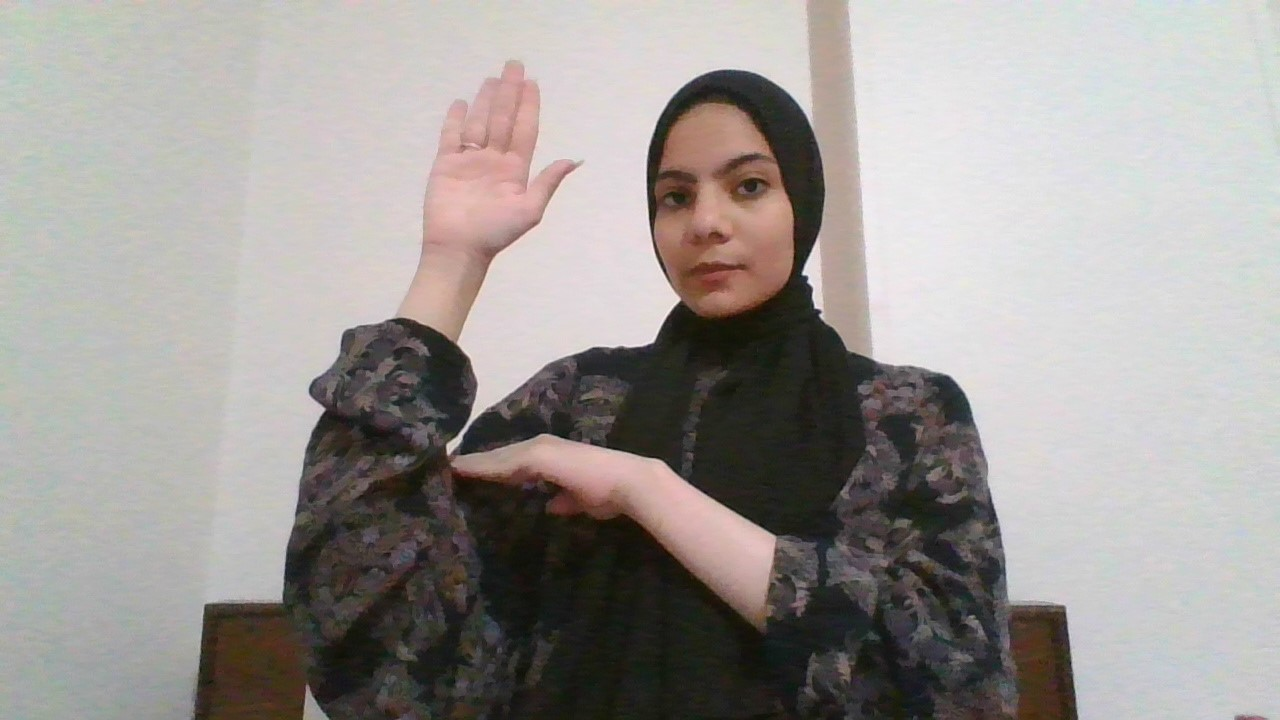morning: (377, 15, 644, 591)
